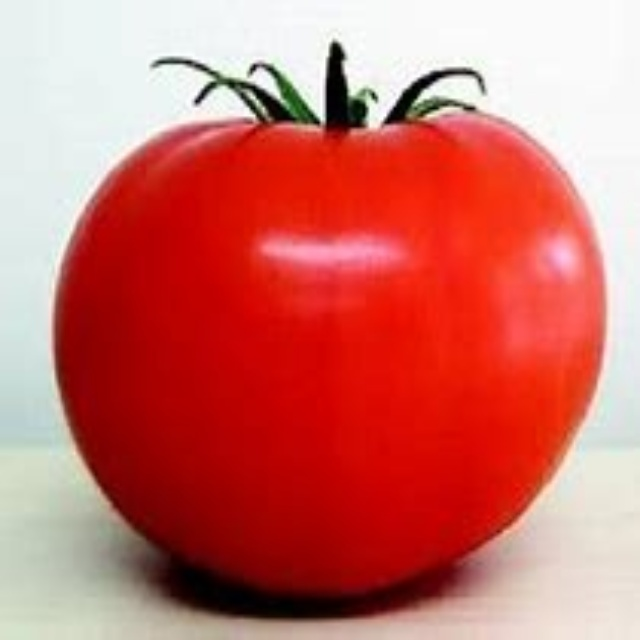tomato: (45, 38, 610, 596)
